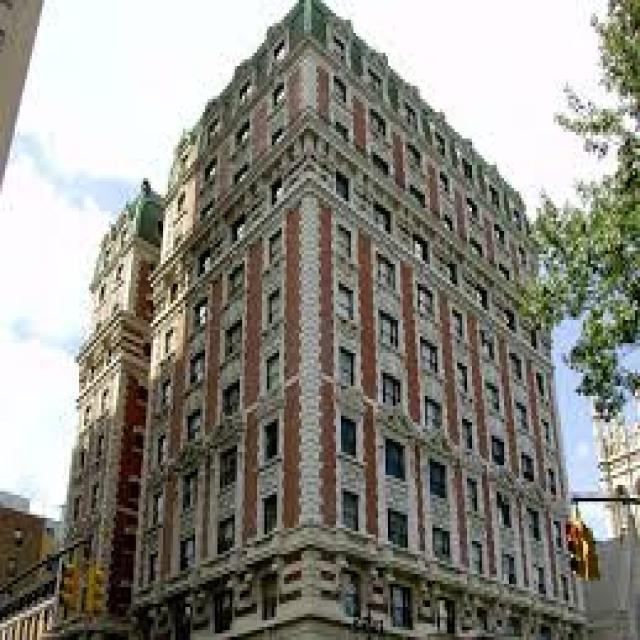window: (257, 412, 282, 468), (383, 436, 408, 488), (388, 505, 415, 551), (257, 488, 279, 544), (262, 343, 282, 403), (373, 250, 400, 294), (341, 488, 366, 531), (420, 340, 447, 379), (376, 310, 405, 346), (215, 508, 235, 558), (264, 284, 284, 333), (185, 297, 212, 333), (383, 370, 403, 416), (264, 225, 284, 268), (178, 472, 200, 511), (182, 406, 202, 448), (425, 399, 445, 439), (222, 379, 242, 419), (418, 284, 440, 320), (526, 504, 544, 548), (497, 485, 514, 531), (430, 462, 450, 501), (534, 561, 554, 600), (185, 350, 205, 389), (435, 524, 455, 561), (512, 399, 532, 436), (336, 284, 356, 320), (217, 445, 235, 485), (224, 320, 244, 356), (224, 264, 244, 297), (338, 416, 356, 452), (474, 534, 490, 574), (487, 383, 504, 419), (338, 353, 356, 386), (455, 310, 472, 343), (482, 333, 499, 366), (502, 554, 519, 587), (146, 551, 163, 584), (178, 534, 193, 571), (509, 350, 526, 382), (454, 363, 470, 396), (336, 228, 353, 257), (469, 475, 482, 511), (541, 416, 554, 452), (563, 574, 576, 610), (524, 452, 539, 482), (151, 488, 163, 525), (546, 468, 559, 502), (462, 419, 475, 452), (534, 366, 548, 396), (160, 330, 176, 356), (156, 432, 168, 465), (492, 439, 506, 465), (554, 518, 564, 554), (163, 373, 168, 406)
